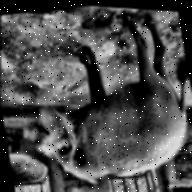boar: (3, 0, 192, 192)
